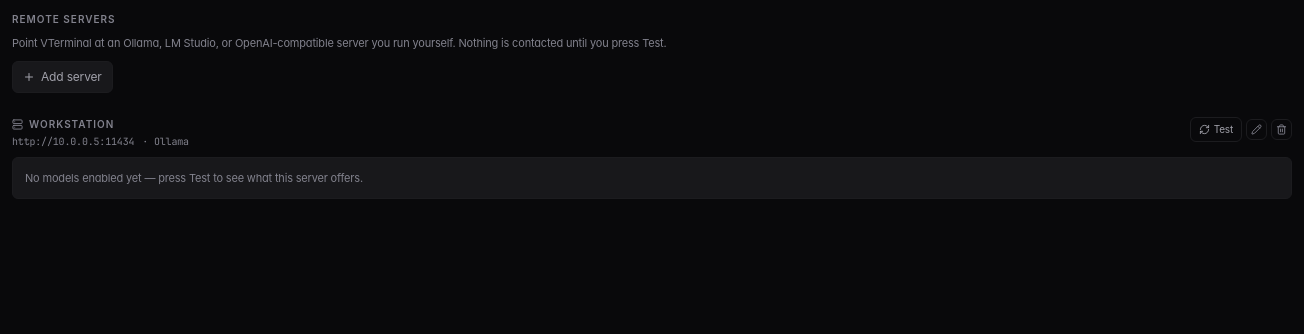
RemoteServersSection › shows a probe's warnings without hiding the list
Click the button "Test" at (1216, 129), box [1190,117,1242,142]
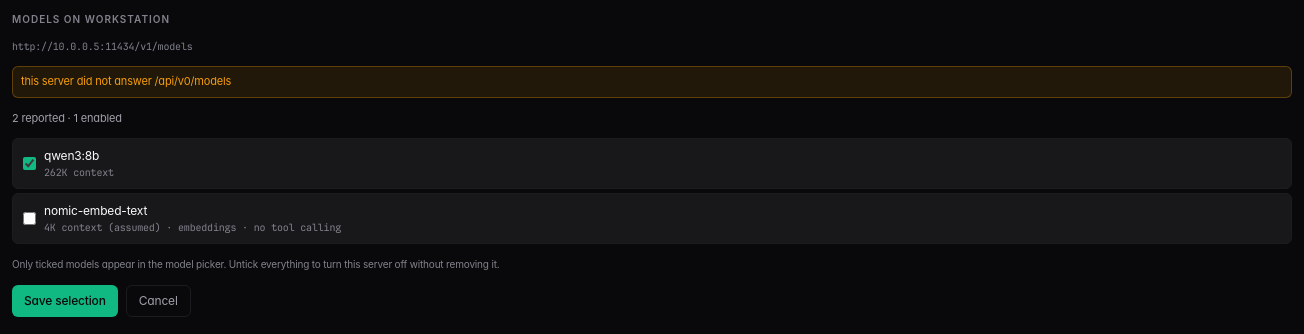
Expected: the text "this server did not answer /api/v0/models" is shown, [12,66,1292,98]
Expected: the number of checkboxes is 2, [23,157,36,170]; [23,212,36,225]
